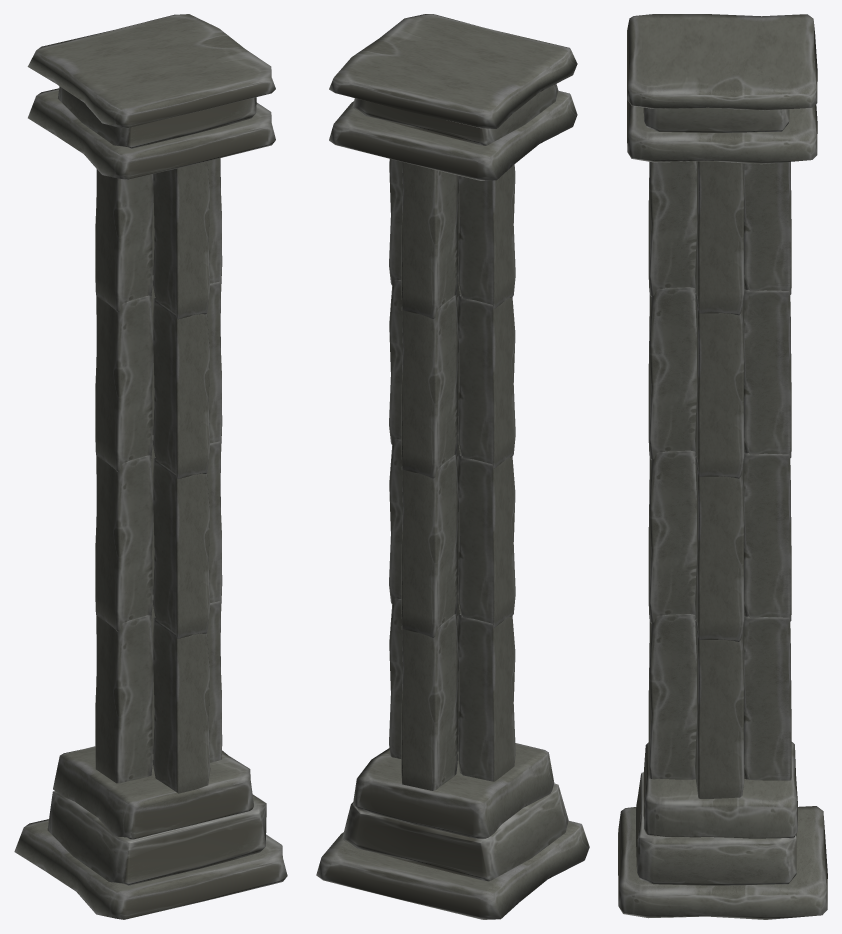
The model's file is Colomn_B.fbx.
3 renders of one model, left to right at view 1: azimuth 30°, elevation 25°; view 2: azimuth 150°, elevation 25°; view 3: azimuth 270°, elevation 25°, orthographic. The views are drawn at different scales.
Visible parts, largest first — view 1: Colomn_B; view 2: Colomn_B; view 3: Colomn_B.
Part boxes in pixels (<box>): Colomn_B: <box>14,14,287,919</box>; Colomn_B: <box>316,14,589,919</box>; Colomn_B: <box>618,14,827,919</box>.
Bounding box in the file's own units: 635 × 2623 × 604.
